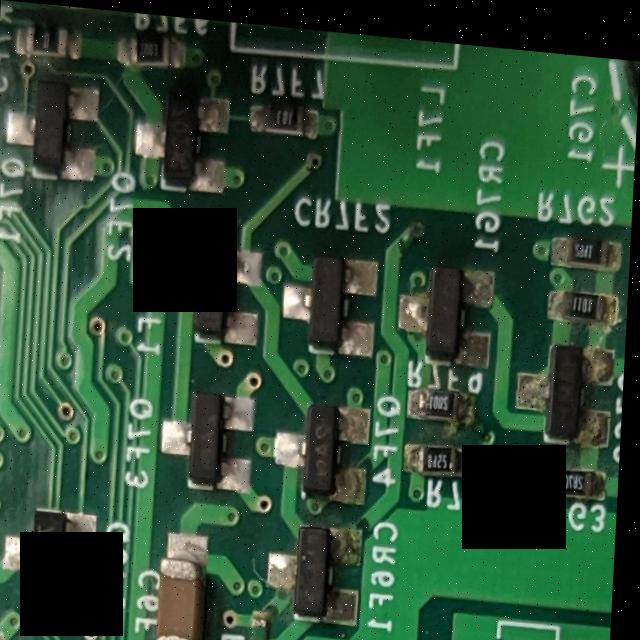4439: (21, 498, 101, 607), (181, 235, 259, 343), (300, 241, 375, 353), (535, 325, 605, 437), (25, 77, 94, 182), (293, 390, 361, 496), (418, 249, 482, 360), (151, 84, 221, 184), (290, 510, 354, 619), (176, 380, 244, 478)
capacitor 1V5: (161, 546, 208, 640)
resistor IR1: (412, 434, 468, 470), (256, 99, 315, 132), (565, 218, 613, 258), (408, 378, 463, 410), (545, 455, 598, 488), (559, 278, 610, 311), (132, 33, 177, 70), (25, 24, 68, 57), (258, 614, 280, 640)
